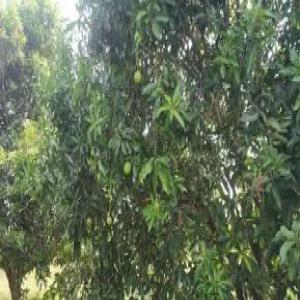Tree: (2, 2, 298, 295)
